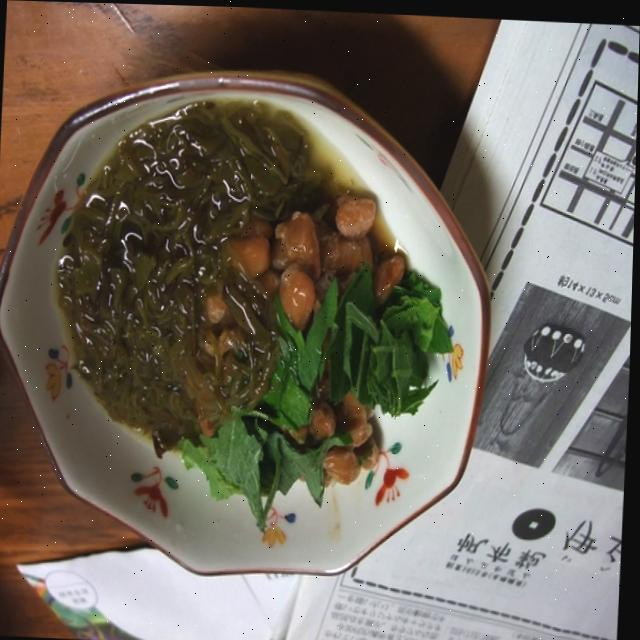蔬菜料理: (14, 76, 501, 598)
